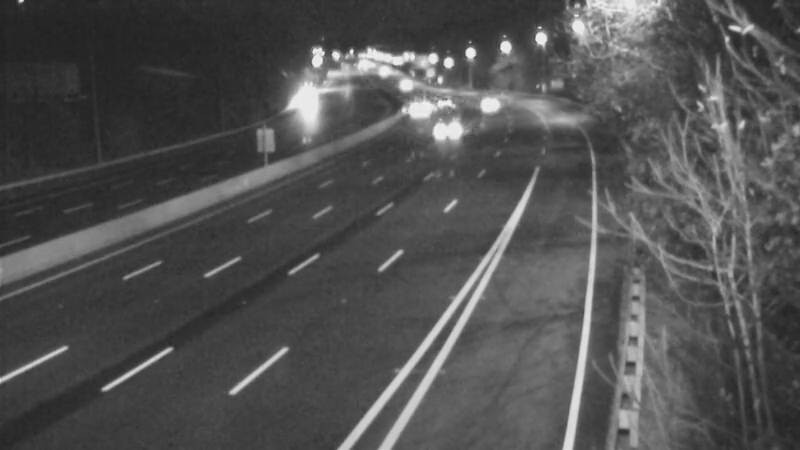vehicle: (381, 60, 431, 110), (467, 78, 517, 128), (417, 80, 467, 130), (389, 85, 439, 135), (423, 109, 473, 159)
